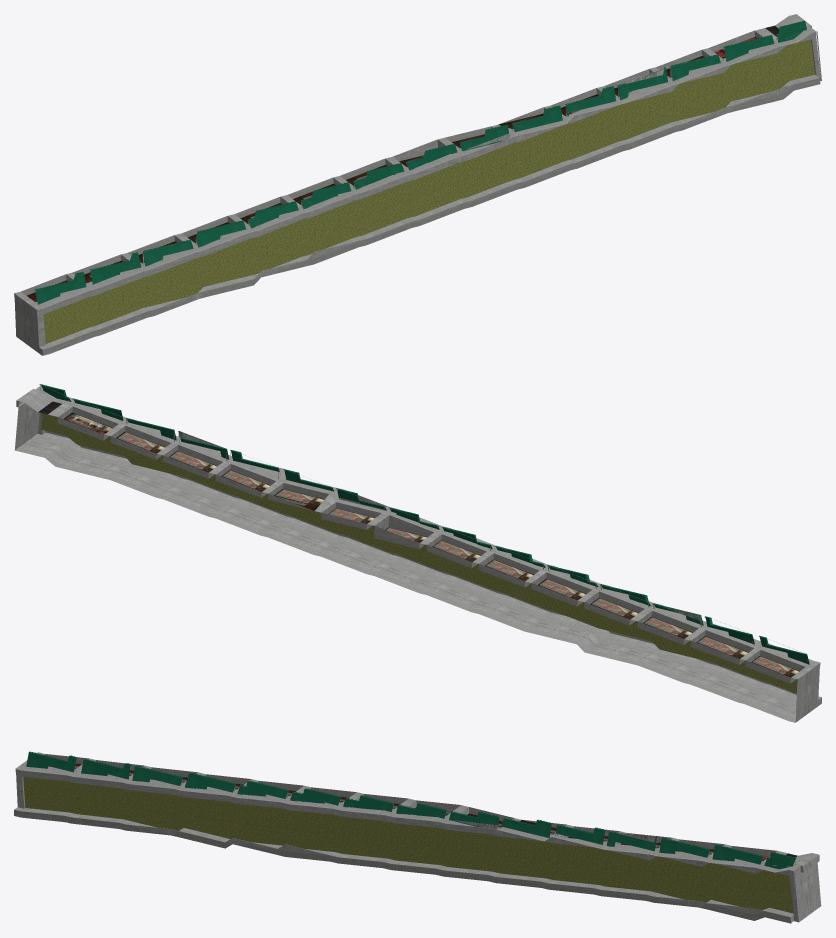
File: Viru_26-origo.obj
3 views of the same model, one above another, from view 1: azimuth 30°, elevation 25°; view 2: azimuth 150°, elevation 25°; view 3: azimuth 330°, elevation 25° (orthographic).
Parts seen in each view (by area): view 1: Viru_26; view 2: Viru_26; view 3: Viru_26.
Part boxes in pixels (x1,y1,x2,y2): Viru_26: [14, 14, 821, 355]; Viru_26: [14, 384, 821, 722]; Viru_26: [14, 751, 821, 923].
Size of the model in its own units: 65.19 by 11 by 3.8.
6 materials, 6 textured.
